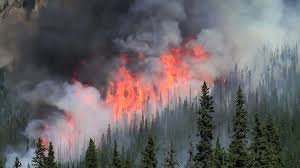fire: (100, 46, 216, 118)
